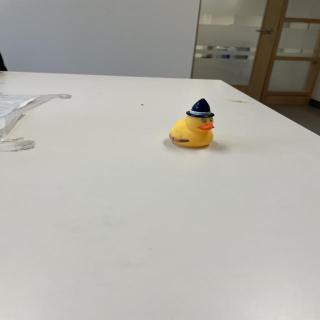duck_specialty: (168, 98, 218, 150)
